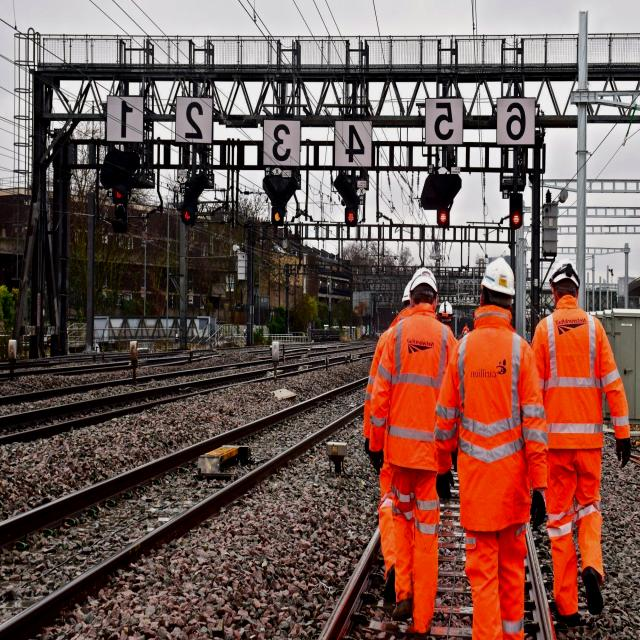head_helmet: (480, 257, 516, 296), (550, 258, 579, 286), (410, 268, 438, 294), (438, 301, 453, 317), (401, 282, 410, 303)
person: (438, 259, 546, 640), (534, 264, 630, 626), (369, 271, 455, 640)
vest: (450, 324, 537, 532), (368, 315, 460, 465), (534, 306, 624, 443)
